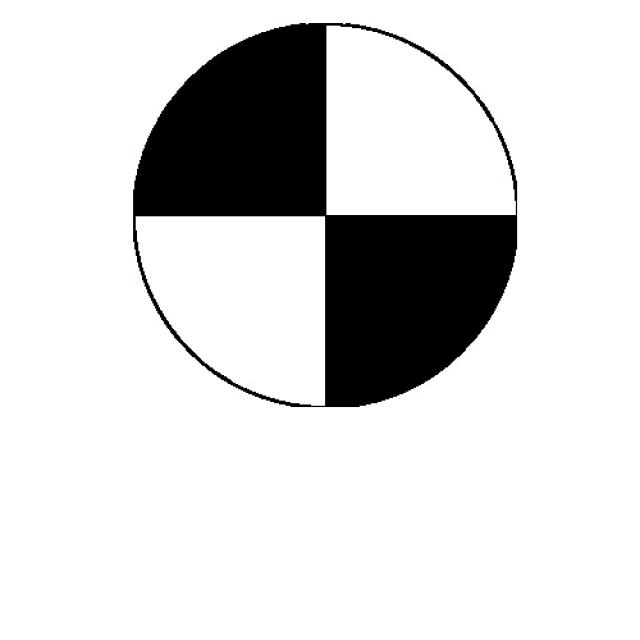Marcadores: (133, 24, 516, 407)
